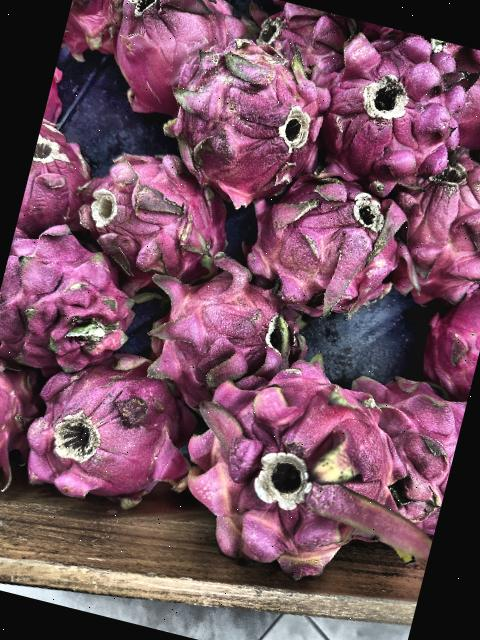buah-naga-matang: (165, 330, 422, 594), (152, 22, 344, 202), (12, 338, 206, 512), (300, 18, 480, 199), (318, 347, 474, 550), (236, 162, 421, 328), (65, 136, 251, 284), (137, 247, 305, 396), (0, 220, 157, 374), (108, 0, 248, 110), (390, 142, 480, 300), (18, 115, 108, 238), (235, 0, 346, 74), (0, 349, 51, 497), (420, 273, 480, 389), (434, 45, 480, 155), (63, 0, 153, 53)
